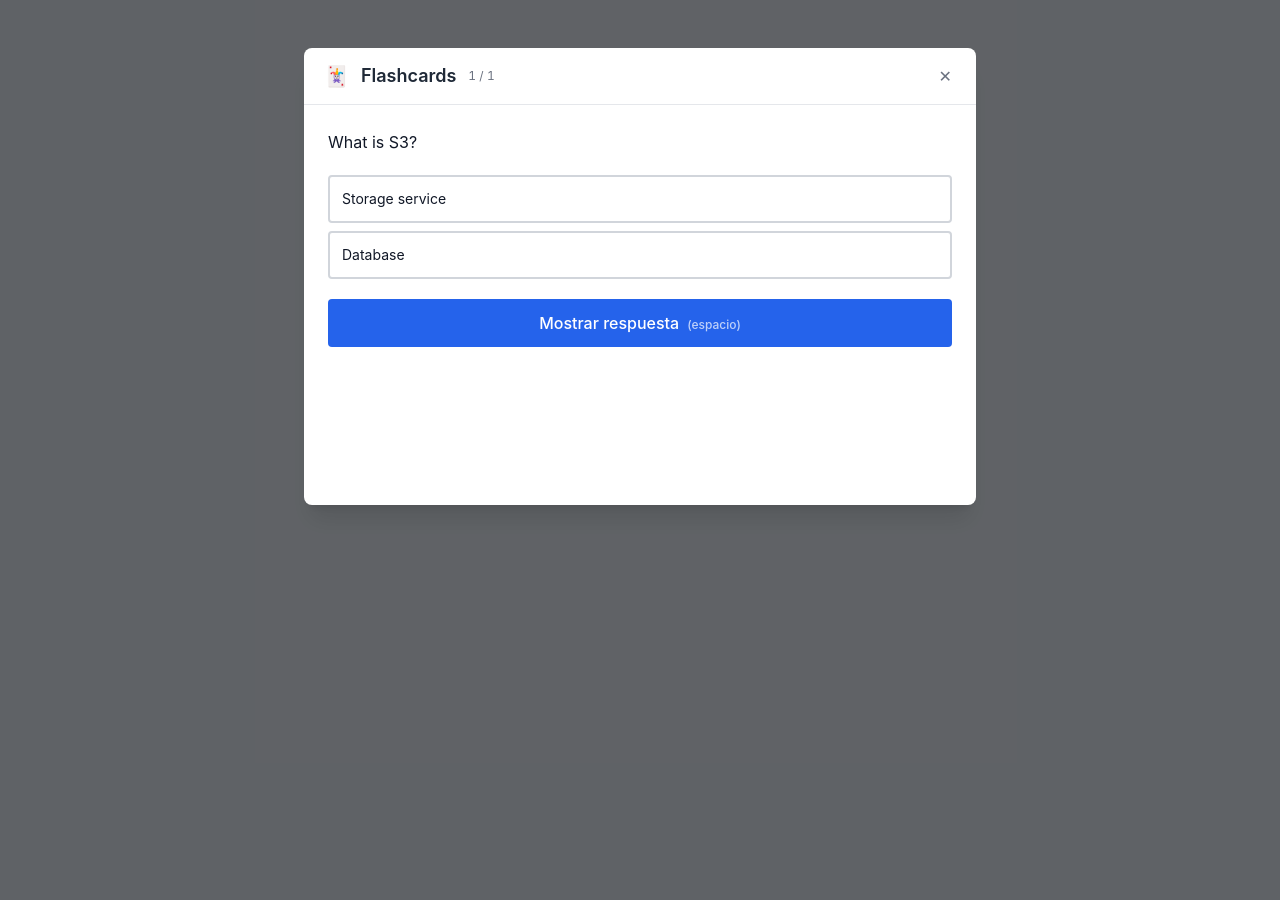
FlashcardMode › reveals options + explanation when "Show answer" is clicked
Expected: the text "What is S3?" is shown, [328,132,417,152]
Expected: the text "S3 is object storage" is not shown
Click the button "Mostrar respuesta(espacio)": (640, 323) [328,299,952,347]
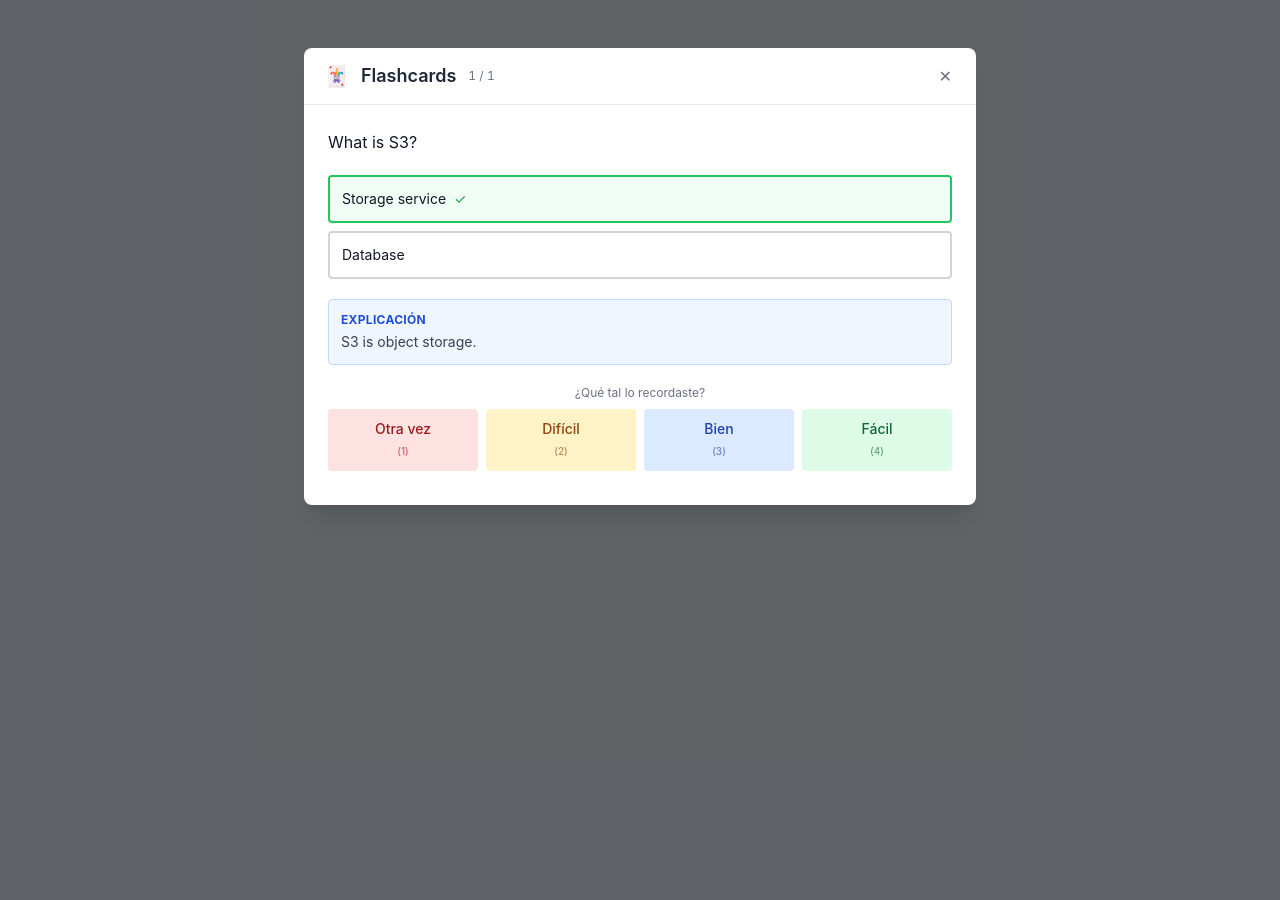
Expected: the text "S3 is object storage." is shown, [341,333,476,350]
Expected: the button "Otra vez (1)" is shown, [328,409,478,471]
Expected: the button "Difícil (2)" is shown, [486,409,636,471]
